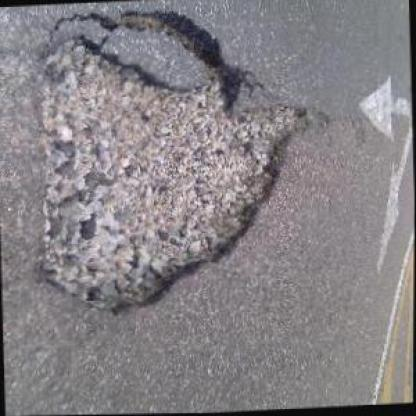pothole: (26, 0, 330, 323)
